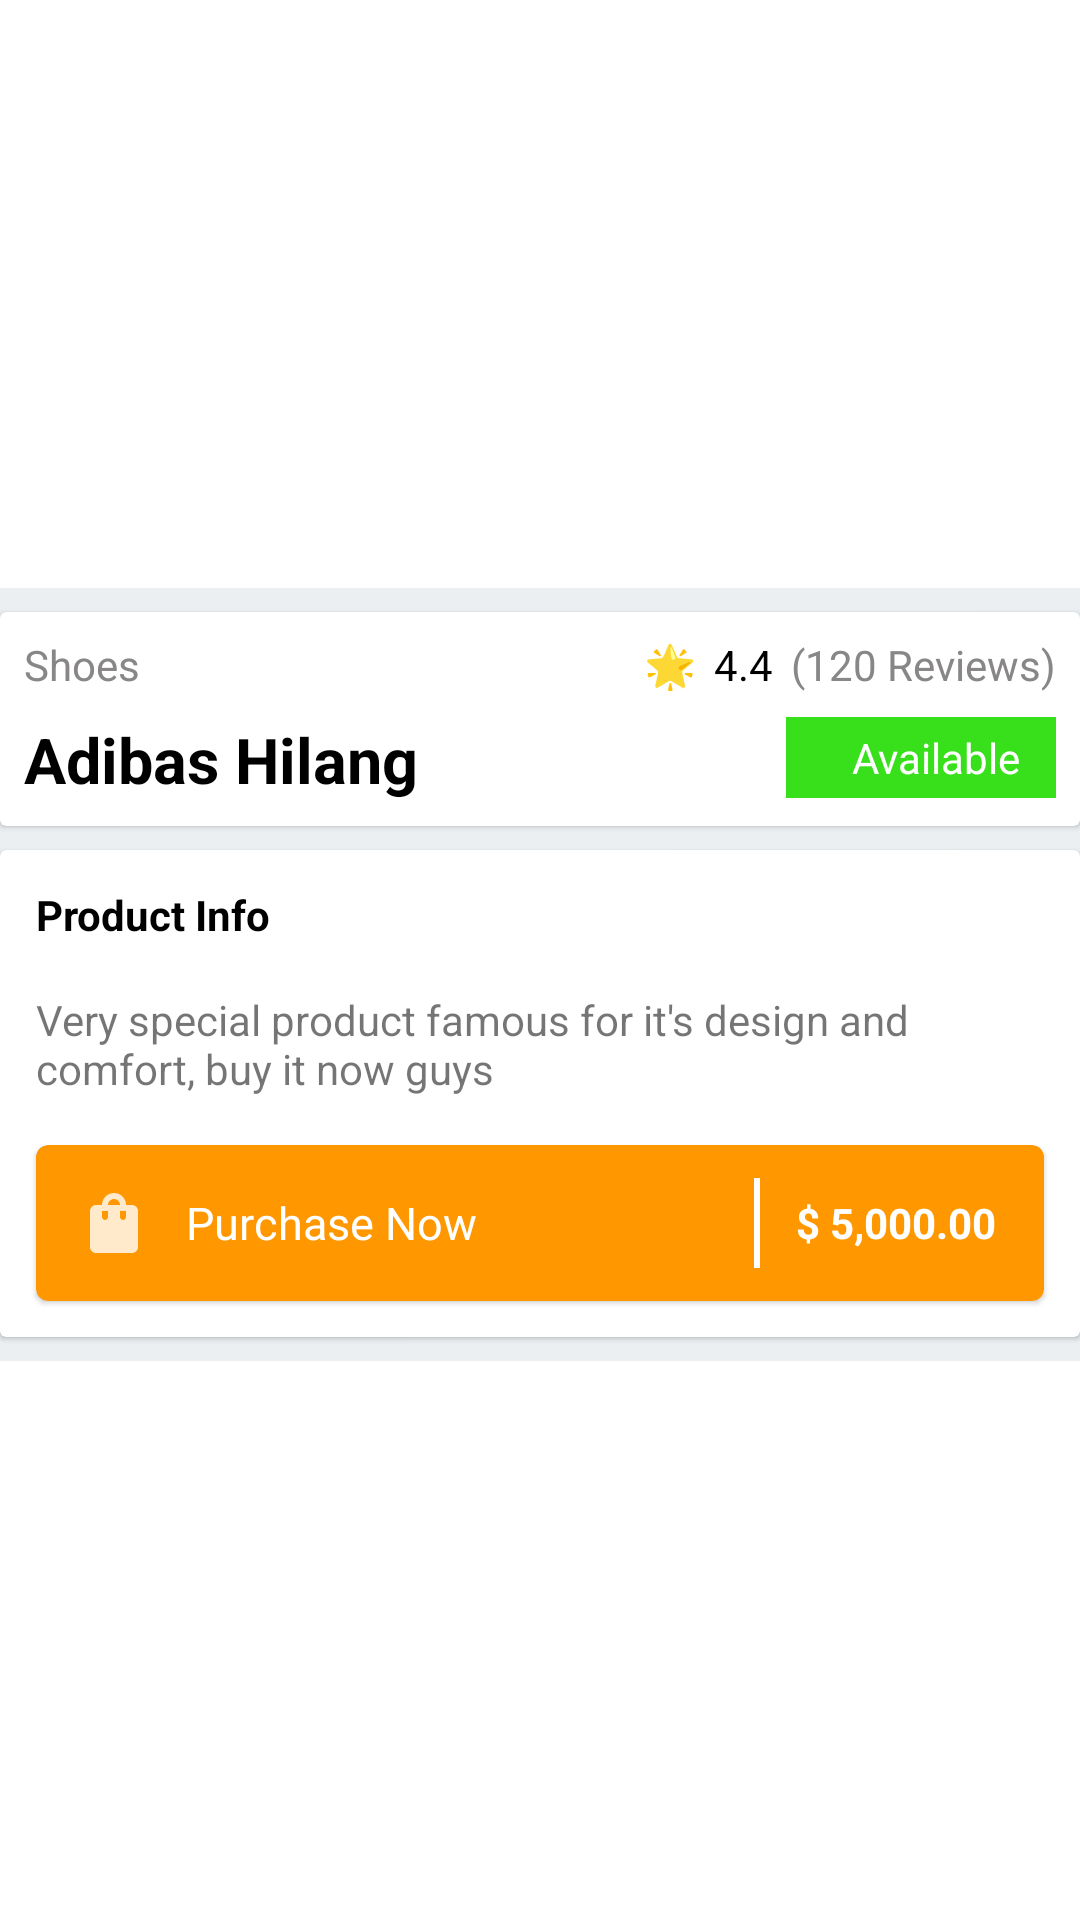

Screen size 1080×1920. Icon name, then its box in pixels as (x1, y1, x2, y2):
shopping: (90, 1193, 138, 1253)
